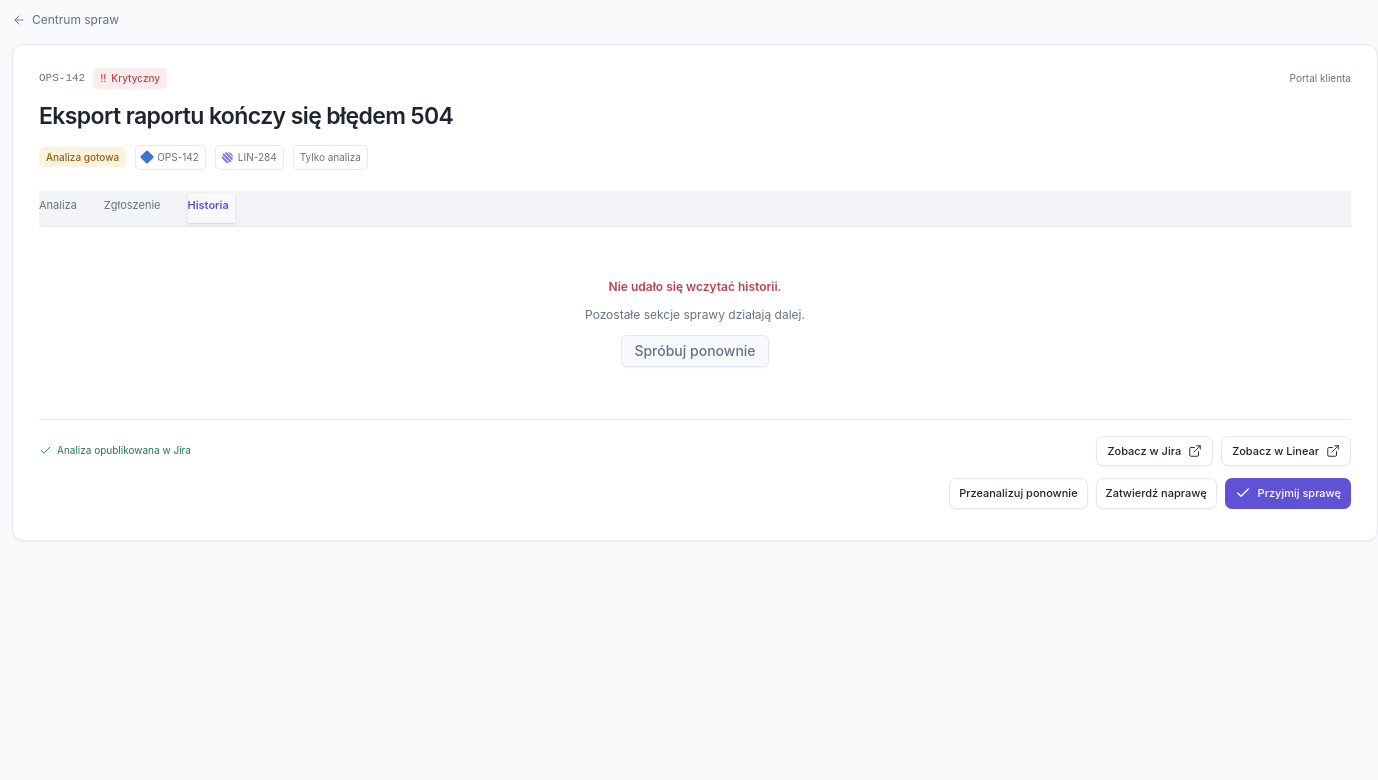
T22.2 tabs › shows a history error with a retry, separate from the case detail
Expected: the message shows "Nie udało się wczytać historii.", [609, 278, 781, 294]
Click the button "Spróbuj ponownie".
click(695, 350)  # box [621, 334, 769, 366]
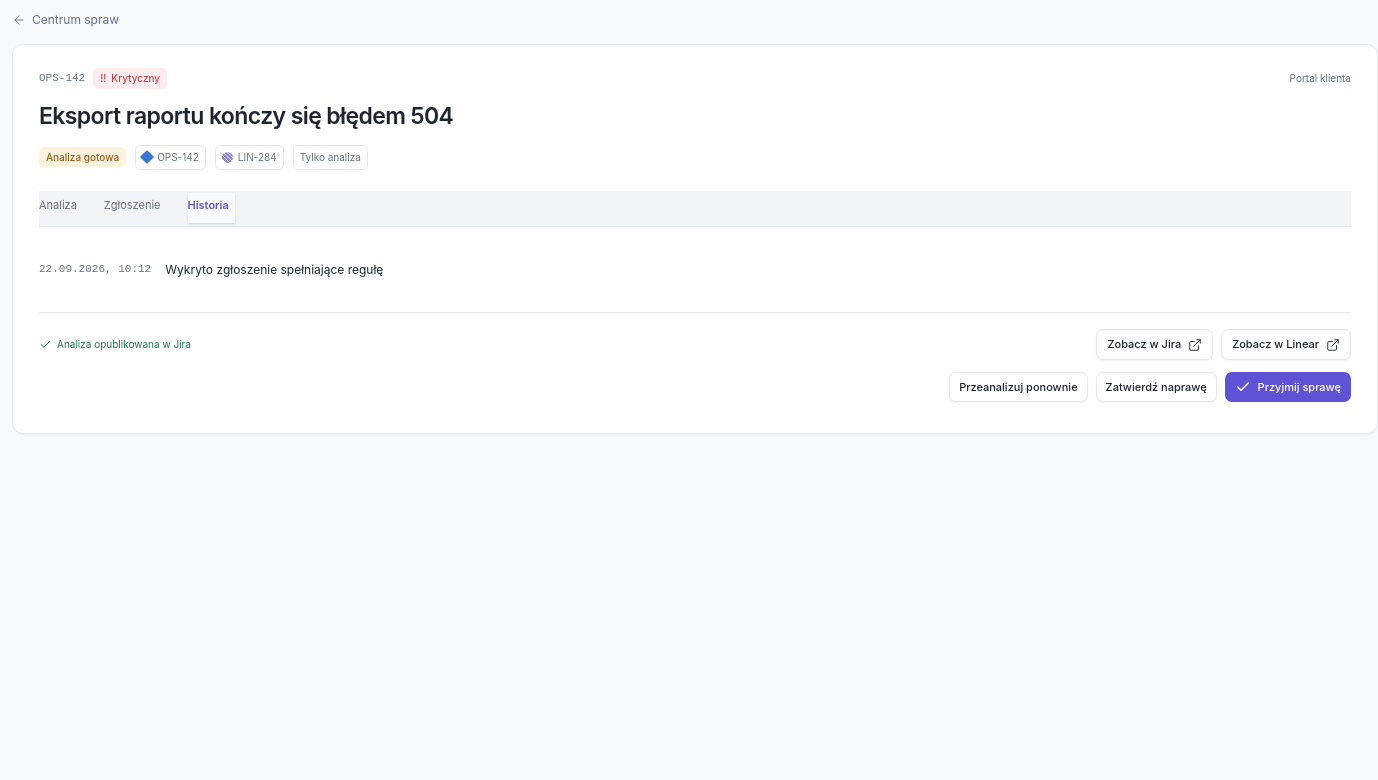
Expected: the heading "Eksport raportu kończy się błędem 504" is shown, [39, 102, 453, 130]
Expected: the text "Wykryto zgłoszenie spełniające regułę" is shown, [165, 260, 383, 279]
